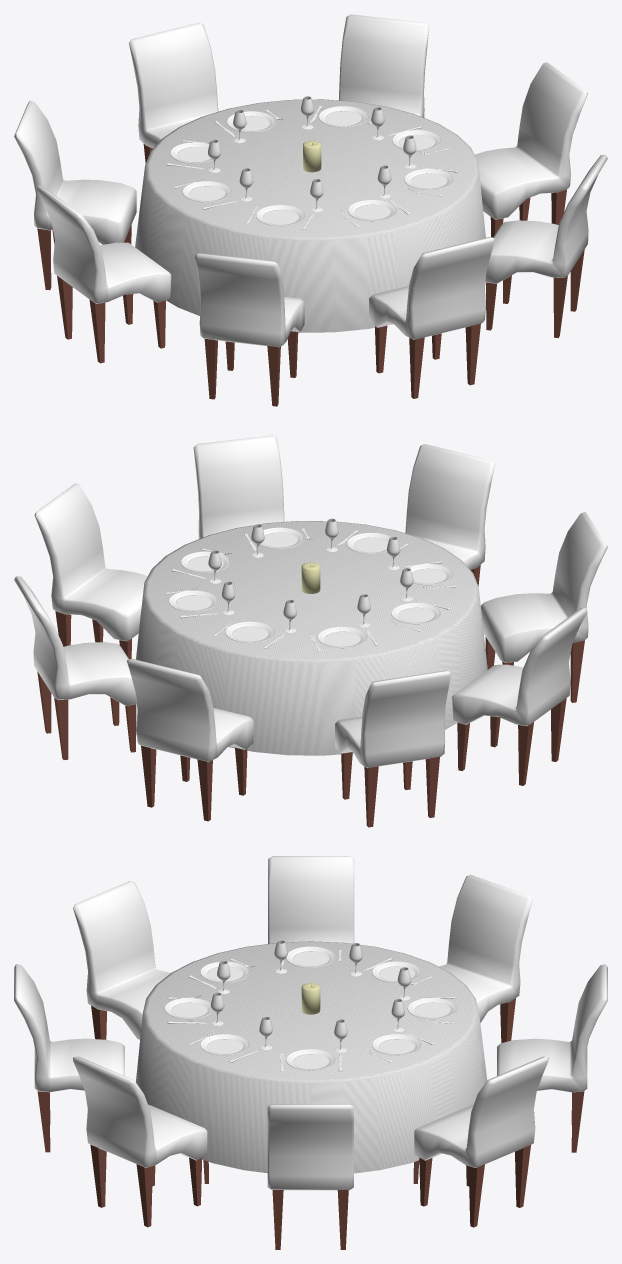
File: banquet.dae
The picture shows the model from 3 angles, top to bottom: view 1: azimuth 30°, elevation 25°; view 2: azimuth 150°, elevation 25°; view 3: azimuth 270°, elevation 25°; orthographic projection.
Visible parts, largest first — view 1: Table, Chair_004, Chair_002, Chair_005, Chair_006, Chair, Chair_003, Chair_001, Chair_007, Plate_005, Plate_001, Plate_006 (+6 smaller); view 2: Table, Chair, Chair_007, Chair_002, Chair_006, Chair_005, Chair_004, Chair_001, Chair_003, Plate_007, Plate_001, Plate_006 (+6 smaller); view 3: Table, Chair_003, Chair_001, Chair_005, Chair_007, Chair_002, Chair_006, Chair_004, Chair, Plate_001, Plate_002, Plate_003 (+6 smaller).
Part boxes in pixels (<box>): Table: <box>135,99,485,332</box>; Chair_004: <box>369,237,495,398</box>; Chair_002: <box>475,62,587,237</box>; Chair_005: <box>195,253,304,406</box>; Chair_006: <box>36,186,171,363</box>; Chair: <box>129,23,218,162</box>; Chair_003: <box>485,154,607,338</box>; Chair_001: <box>339,14,429,117</box>; Chair_007: <box>14,100,136,290</box>; Plate_005: <box>256,205,305,226</box>; Plate_001: <box>318,106,368,127</box>; Plate_006: <box>182,181,231,202</box>; Table: <box>136,521,487,755</box>; Chair: <box>127,658,253,821</box>; Chair_007: <box>335,670,451,827</box>; Chair_002: <box>34,483,147,659</box>; Chair_006: <box>452,608,587,785</box>; Chair_005: <box>480,512,607,702</box>; Chair_004: <box>405,444,495,586</box>; Chair_001: <box>14,576,136,759</box>; Chair_003: <box>193,435,284,538</box>; Plate_007: <box>317,627,367,648</box>; Plate_001: <box>168,590,218,611</box>; Plate_006: <box>391,603,440,624</box>; Table: <box>136,941,487,1183</box>; Chair_003: <box>73,1056,207,1227</box>; Chair_001: <box>414,1056,548,1227</box>; Chair_005: <box>73,881,170,1039</box>; Chair_007: <box>439,874,532,1042</box>; Chair_002: <box>267,1104,353,1249</box>; Chair_006: <box>268,856,354,943</box>; Chair_004: <box>14,964,124,1152</box>; Chair: <box>497,964,607,1152</box>; Plate_001: <box>372,1034,421,1055</box>; Plate_002: <box>286,1049,335,1070</box>; Plate_003: <box>200,1034,249,1055</box>.
Bounding box in the file's own units: 3.18 × 3.18 × 0.927.
7 materials, 1 textured.
